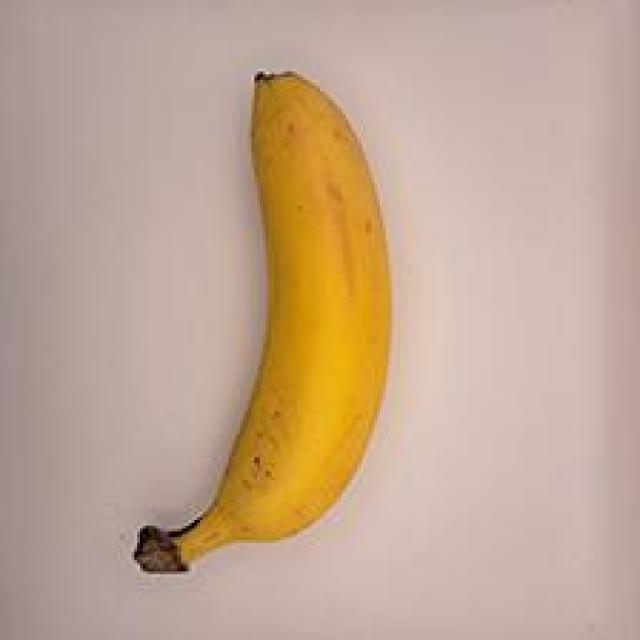Ripe: (114, 41, 420, 597)
